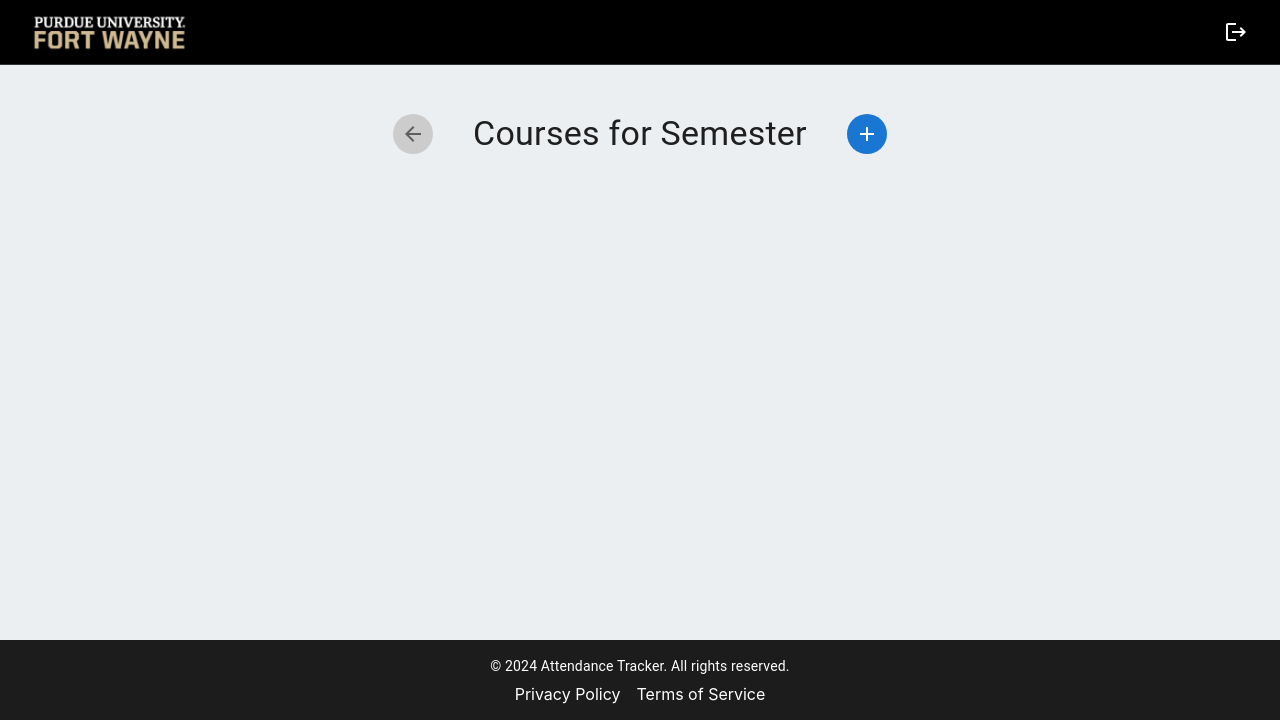
Test: Course Management Page › should show an error if the course form is submitted with empty fields
Click the button with test id "add-course-button": coordinates (867, 134) [847,114,887,154]
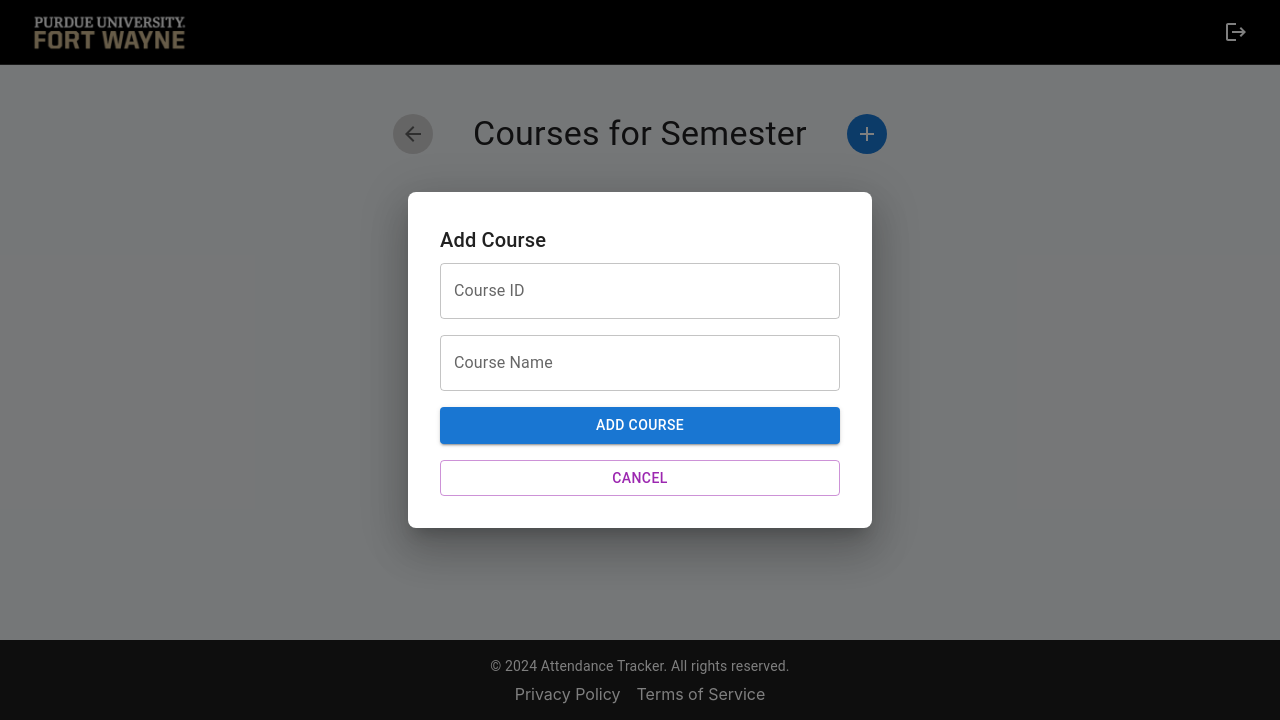
Click the button with test id "course-button": coordinates (640, 426) [440,407,840,444]
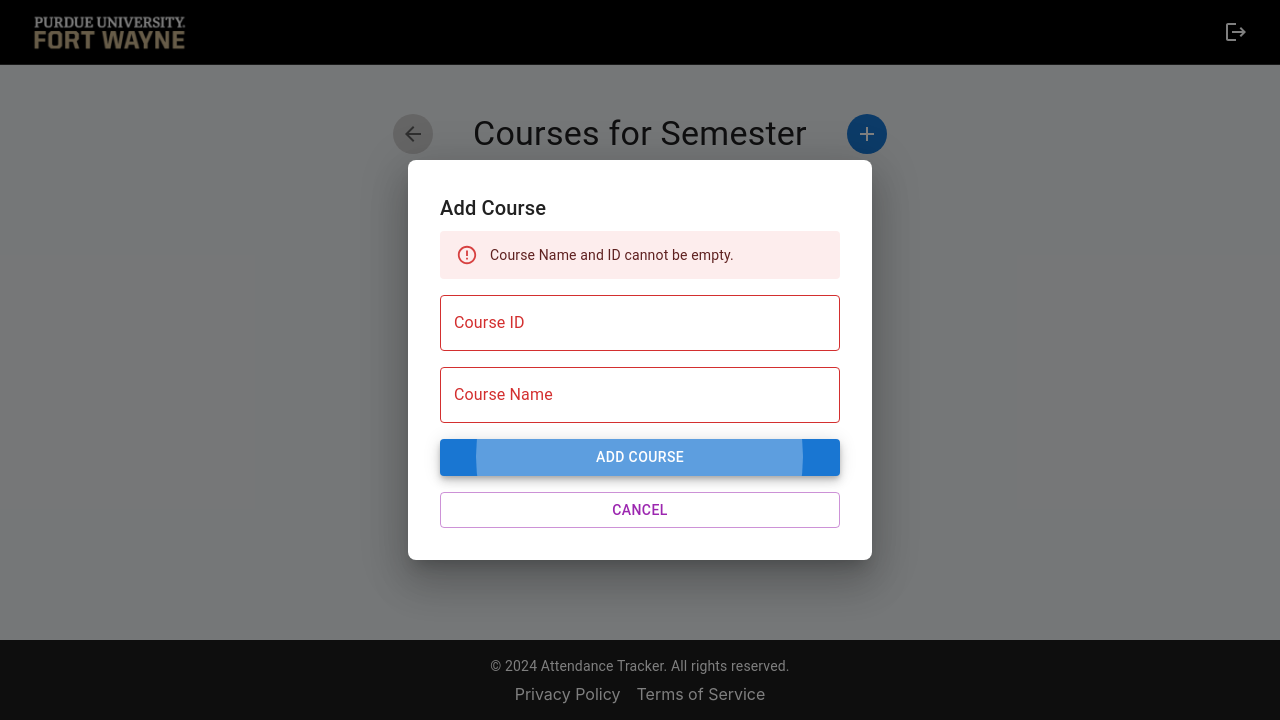
Check: the icon with test id "ErrorOutlineIcon" is shown, box [456,244,478,266]
